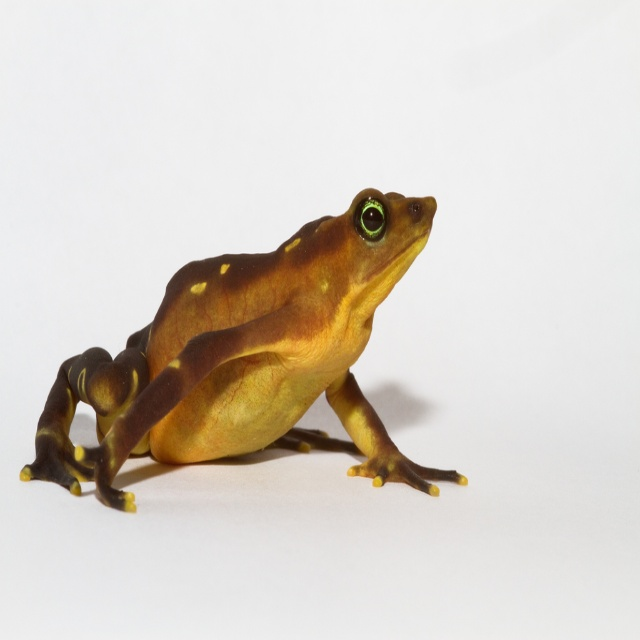Frog: (18, 187, 468, 511)
